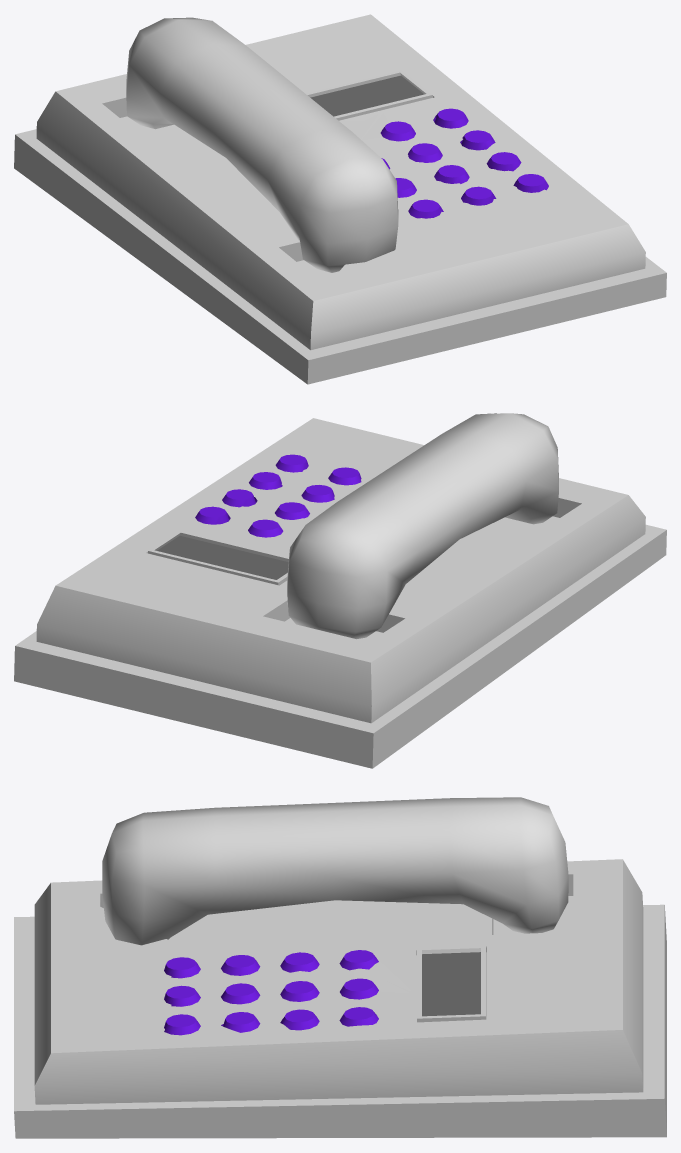
The model's file is SM_phone.fbx.
The picture shows the model from 3 angles, top to bottom: view 1: azimuth 30°, elevation 25°; view 2: azimuth 150°, elevation 25°; view 3: azimuth 270°, elevation 25°; orthographic projection. The views are drawn at different scales.
Visible parts, largest first — view 1: Cube.027, Cube.024; view 2: Cube.027, Cube.024; view 3: Cube.027, Cube.024.
Boxes of the visible parts, left/top/right/bottom form: Cube.027: left=14, top=14, right=666, bottom=384; Cube.024: left=126, top=17, right=398, bottom=272; Cube.027: left=14, top=418, right=666, bottom=768; Cube.024: left=287, top=413, right=558, bottom=639; Cube.027: left=14, top=859, right=666, bottom=1138; Cube.024: left=102, top=797, right=568, bottom=945.
Size of the model in its own units: 17.25 by 7.99 by 24.53.
